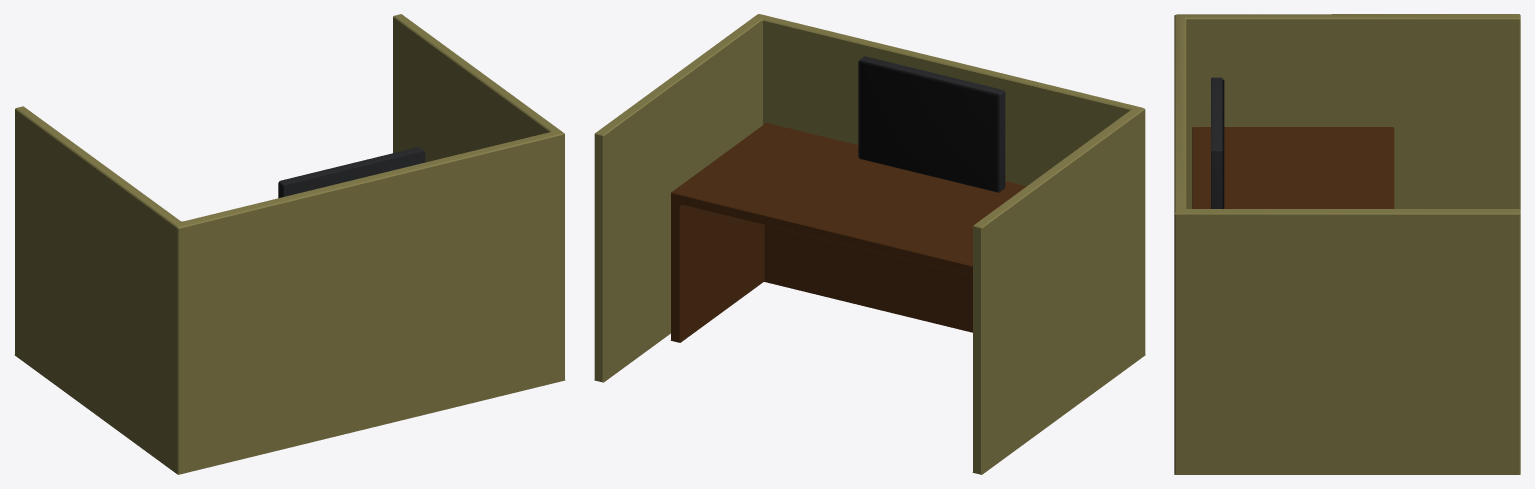
Rendered from Cubicle.FBX.
3 renders of one model, left to right at view 1: azimuth 30°, elevation 25°; view 2: azimuth 150°, elevation 25°; view 3: azimuth 270°, elevation 25°, orthographic. The views are drawn at different scales.
Visible parts, largest first — view 1: Cubicle Walls, Monitor; view 2: Cubicle Walls, Desk, Monitor; view 3: Cubicle Walls, Desk, Monitor.
Boxes of the visible parts, x1,y1,x2,y2 form: Cubicle Walls: (14,14,565,474); Monitor: (278,147,425,198); Cubicle Walls: (594,14,1145,474); Desk: (670,123,1026,342); Monitor: (858,56,1005,192); Cubicle Walls: (1174,14,1520,474); Desk: (1192,127,1394,208); Monitor: (1211,77,1224,208).
Bounding box in the file's own units: 82 × 60 × 50.05.
